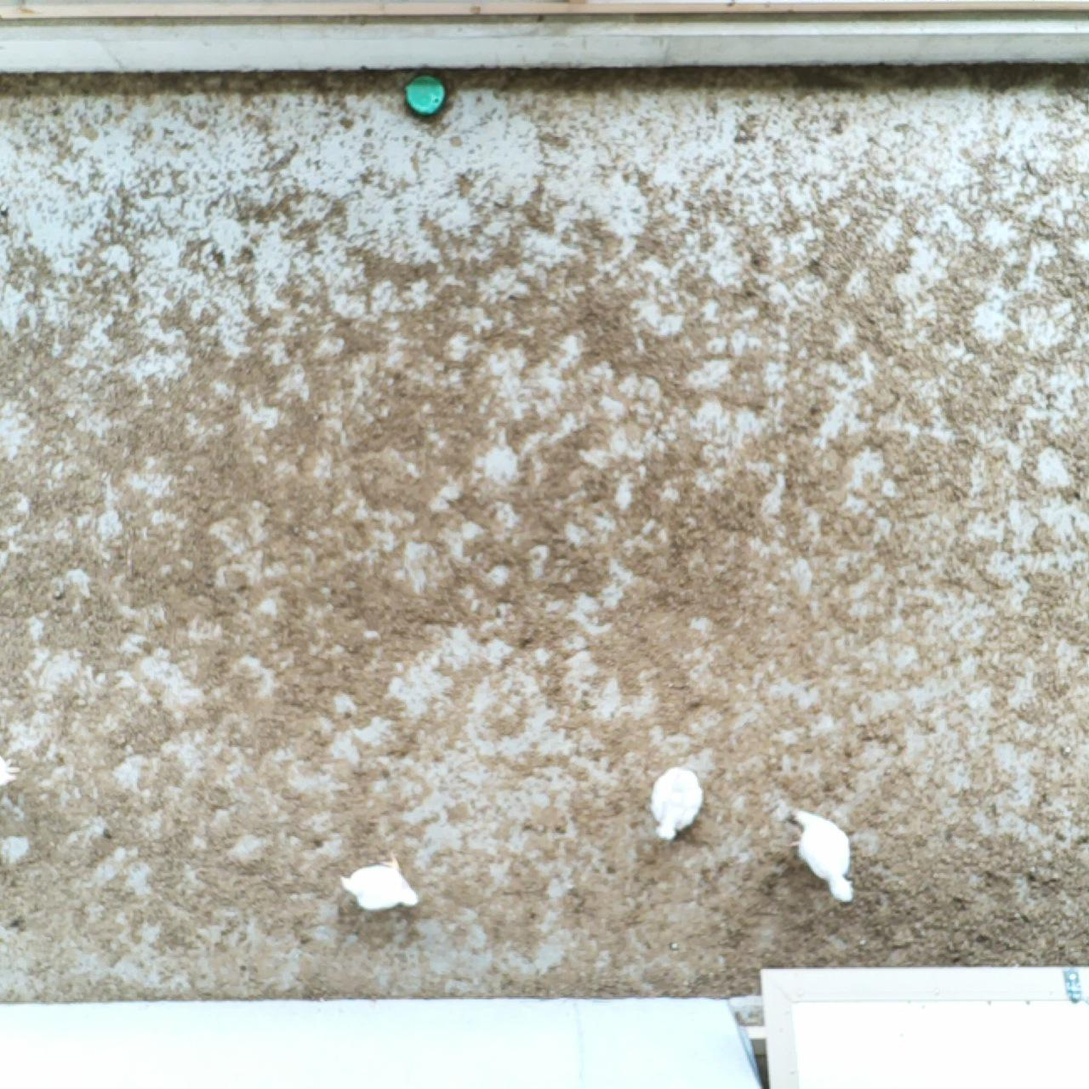chicken: (788, 803, 860, 910), (335, 847, 424, 918), (644, 761, 707, 844)
